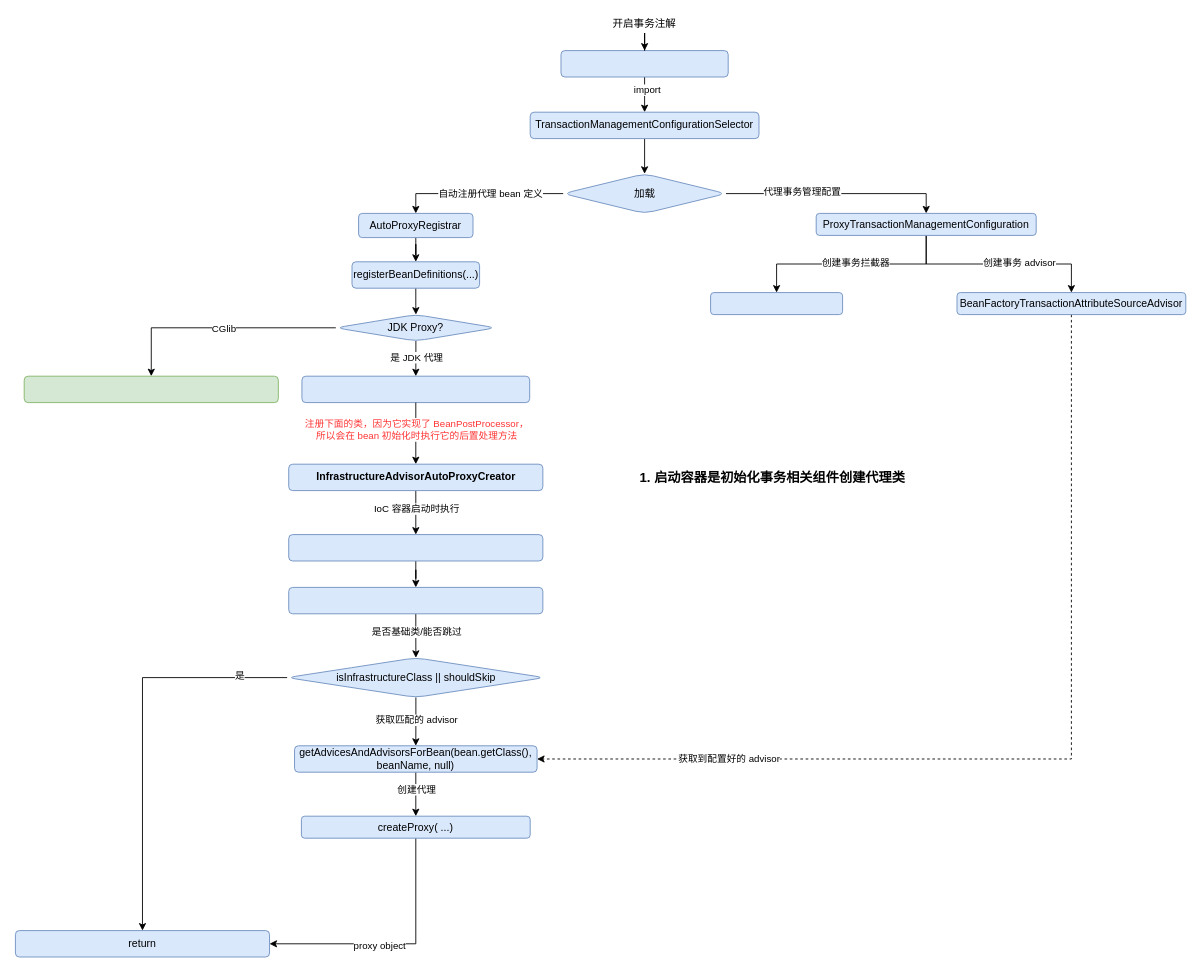
The diagram is 1201 pixels wide and 972 high, and some of its shapes have lost their labels. The shapes that lost their labels are listed below. From the top down, each one's box as (x1, y1, x2, y2) in pixels, then its label:
(560, 50, 728, 77): @EnableTransactionManagement
(710, 292, 843, 315): TransactionInterceptor
(23, 375, 278, 403): AopConfigUtils .forceAutoProxyCreatorToUseClassProxying(registry)
(301, 375, 530, 403): AopConfigUtils. registerAutoProxyCreatorIfNecessary(registry)
(288, 534, 543, 561): postProcessAfterInitialization()
(288, 587, 543, 614): wrapIfNecessary(bean, beanName, cacheKey)
